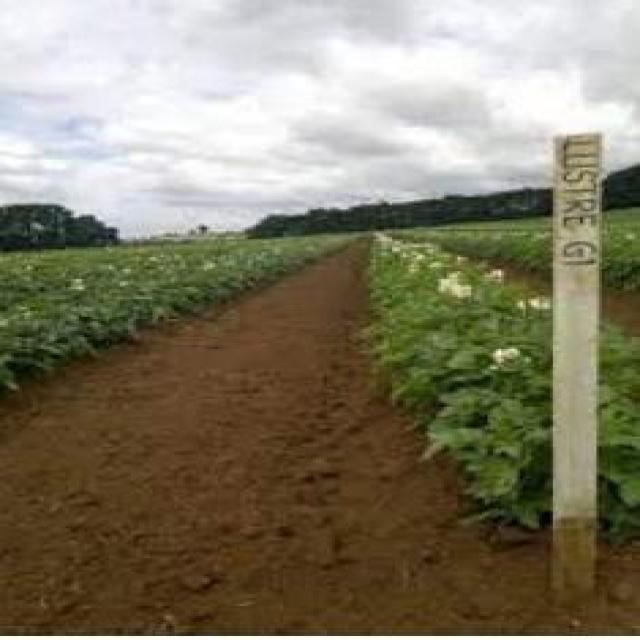row: (0, 242, 536, 585)
